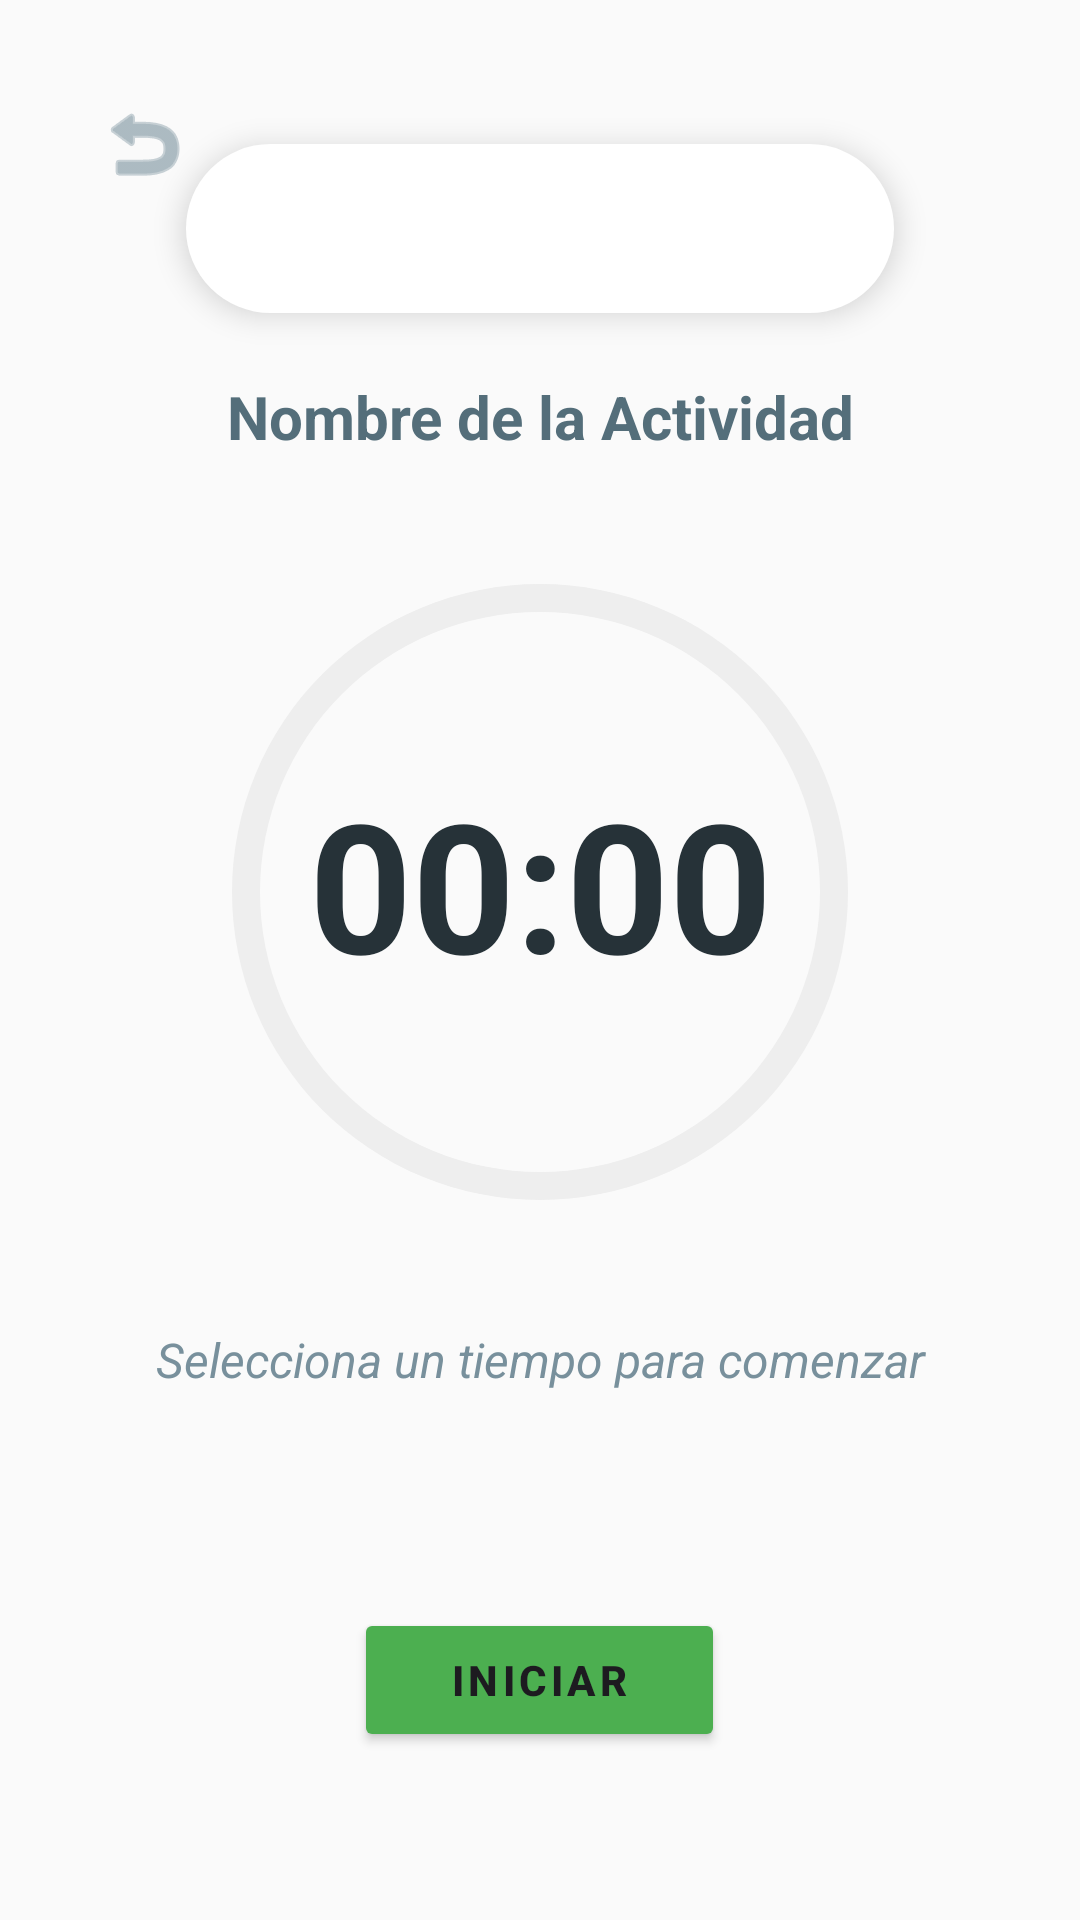

Screen size 1080w x 1920h. Icon name, then its box in pixels as (x1, y1, x2, y2):
Volver: (111, 114, 180, 176)
